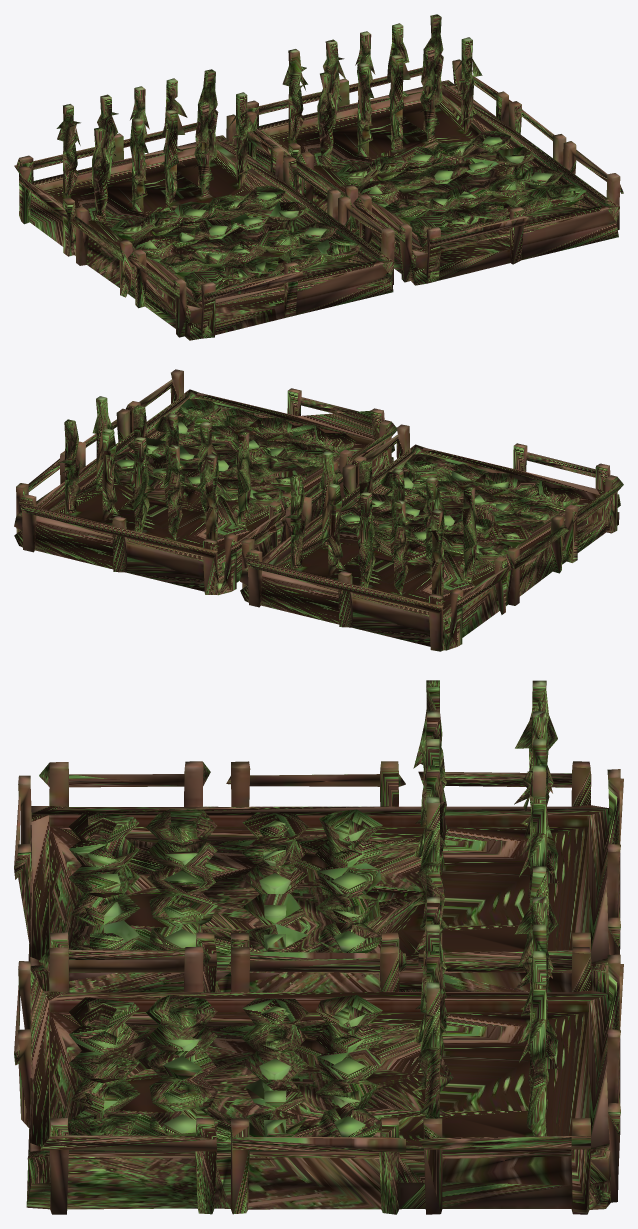
File: garden-bed-a.glb
The picture shows the model from 3 angles, top to bottom: view 1: azimuth 30°, elevation 25°; view 2: azimuth 150°, elevation 25°; view 3: azimuth 270°, elevation 25°; orthographic projection. The views are drawn at different scales.
Parts seen in each view (by area): view 1: node_0, node_0-tile1; view 2: node_0, node_0-tile1; view 3: node_0-tile1, node_0.
Boxes of the visible parts, x1,y1,x2,y2 form: node_0: (14,69,397,340); node_0-tile1: (246,14,623,285); node_0: (240,424,623,651); node_0-tile1: (14,369,396,595); node_0-tile1: (14,865,623,1214); node_0: (14,680,623,993).
Size of the model in its own units: 1.99 by 0.4991 by 1.39.
1 material, 1 textured.
